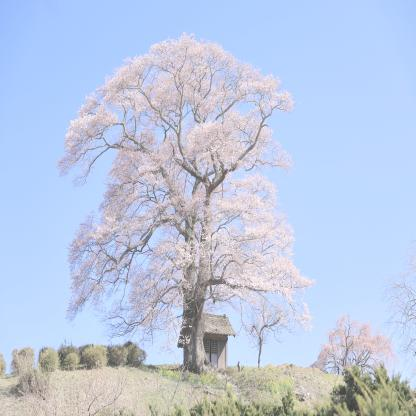EdohiganSakura: (55, 31, 315, 372), (310, 314, 399, 374)
